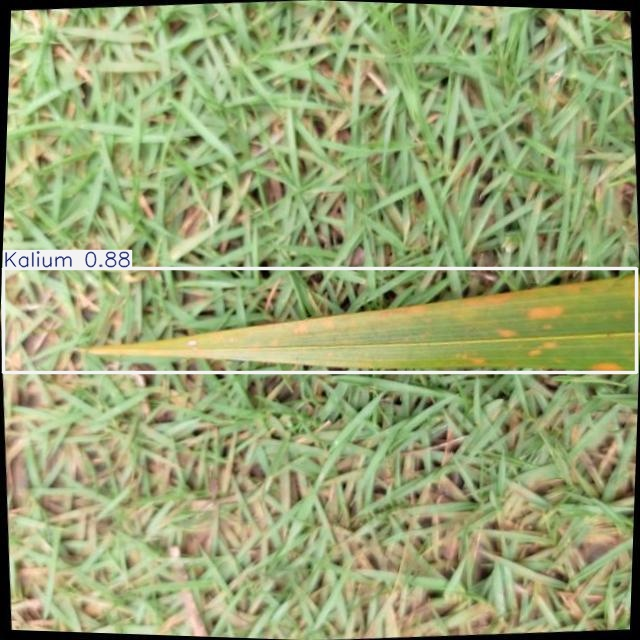Kalium: (4, 268, 637, 372)
